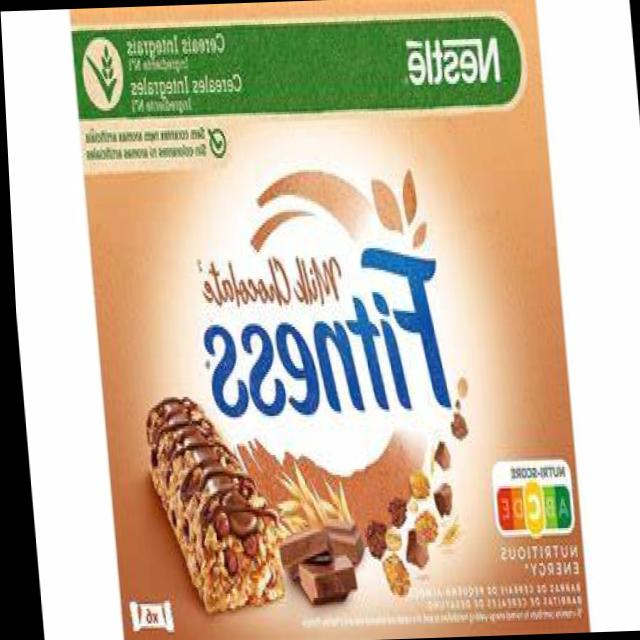Caja: (62, 0, 592, 640)
